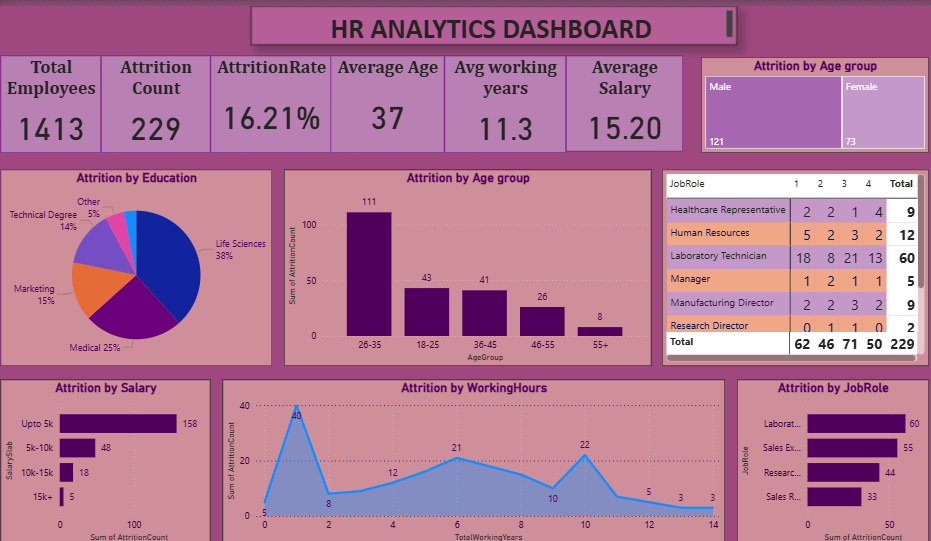

What the dashboard file says about the page in this screenshot:
{"tool":"powerbi","page":{"name":"Page 1","canvas":[1280,720],"ordinal":0},"visuals":[{"type":"card","title":"Total Employees","fields":{"Values":["CountNonNull(HR_Analytics (1).EmpID)"]},"box":[2,66,134,130],"z":0},{"type":"card","title":"Attrition Count","fields":{"Values":["Sum(HR_Analytics (1).AttritionCount )"]},"box":[136,66,146,130],"z":1000},{"type":"card","title":"AttritionRate","fields":{"Values":["HR_Analytics (1).AttritionRate"]},"box":[282,66,162,130],"z":2000},{"type":"card","title":"Average Age","fields":{"Values":["Avg(HR_Analytics (1).Age)"]},"box":[442,66,152,130],"z":3000},{"type":"card","title":"Average Salary","fields":{"Values":["Avg(HR_Analytics (1).PercentSalaryHike)"]},"box":[756,66,156,128],"z":4000},{"type":"card","title":"Avg working years","fields":{"Values":["Avg(HR_Analytics (1).TotalWorkingYears)"]},"box":[594,66,162,130],"z":5000},{"type":"donutChart","title":" Attrition by Education","fields":{"Category":["HR_Analytics (1).EducationField"],"Y":["Sum(HR_Analytics (1).AttritionCount )"]},"box":[2,218,362,262],"z":6000},{"type":"clusteredColumnChart","title":" Attrition by Age group","fields":{"Category":["HR_Analytics (1).AgeGroup"],"Y":["Sum(HR_Analytics (1).AttritionCount )"]},"box":[380,218,490,262],"z":7000},{"type":"pivotTable","title":" Attrition by Age group","fields":{"Rows":["HR_Analytics (1).JobRole"],"Columns":["HR_Analytics (1).JobSatisfaction"],"Values":["Sum(HR_Analytics (1).AttritionCount )"]},"box":[884,218,356,262],"z":8000},{"type":"clusteredBarChart","title":" Attrition by Salary","fields":{"Category":["HR_Analytics (1).SalarySlab"],"Y":["Sum(HR_Analytics (1).AttritionCount )"]},"box":[2,498,280,222],"z":9000},{"type":"clusteredBarChart","title":" Attrition by JobRole","fields":{"Y":["Sum(HR_Analytics (1).AttritionCount )"],"Category":["HR_Analytics (1).JobRole"]},"box":[984,498,256,222],"z":10000},{"type":"areaChart","title":" Attrition by WorkingHours","fields":{"Category":["HR_Analytics (1).TotalWorkingYears"],"Y":["Sum(HR_Analytics (1).AttritionCount )"]},"box":[298,498,670,222],"z":11000},{"type":"treemap","title":" Attrition by Age group","fields":{"Group":["HR_Analytics (1).Gender"],"Values":["Sum(HR_Analytics (1).AttritionCount )"]},"box":[936,68,304,128],"z":12000},{"type":"textbox","box":[336,0,648,52],"z":12001}]}

Visuals, with their boxes in screenshot pixels (x1, y1, x2, y2):
"Total Employees" card: 1,56,101,153
"Attrition Count" card: 101,56,210,153
"AttritionRate" card: 210,56,330,153
"Average Age" card: 329,56,442,153
"Average Salary" card: 562,56,678,152
"Avg working years" card: 442,56,562,153
" Attrition by Education" donutChart: 1,169,271,364
" Attrition by Age group" clusteredColumnChart: 283,169,647,364
" Attrition by Age group" pivotTable: 657,169,922,364
" Attrition by Salary" clusteredBarChart: 1,378,210,540
" Attrition by JobRole" clusteredBarChart: 732,378,922,540
" Attrition by WorkingHours" areaChart: 222,378,720,540
" Attrition by Age group" treemap: 696,58,922,153
textbox: 250,7,732,46
